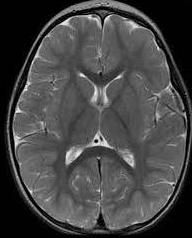Normal_Brain: (1, 1, 192, 238)
